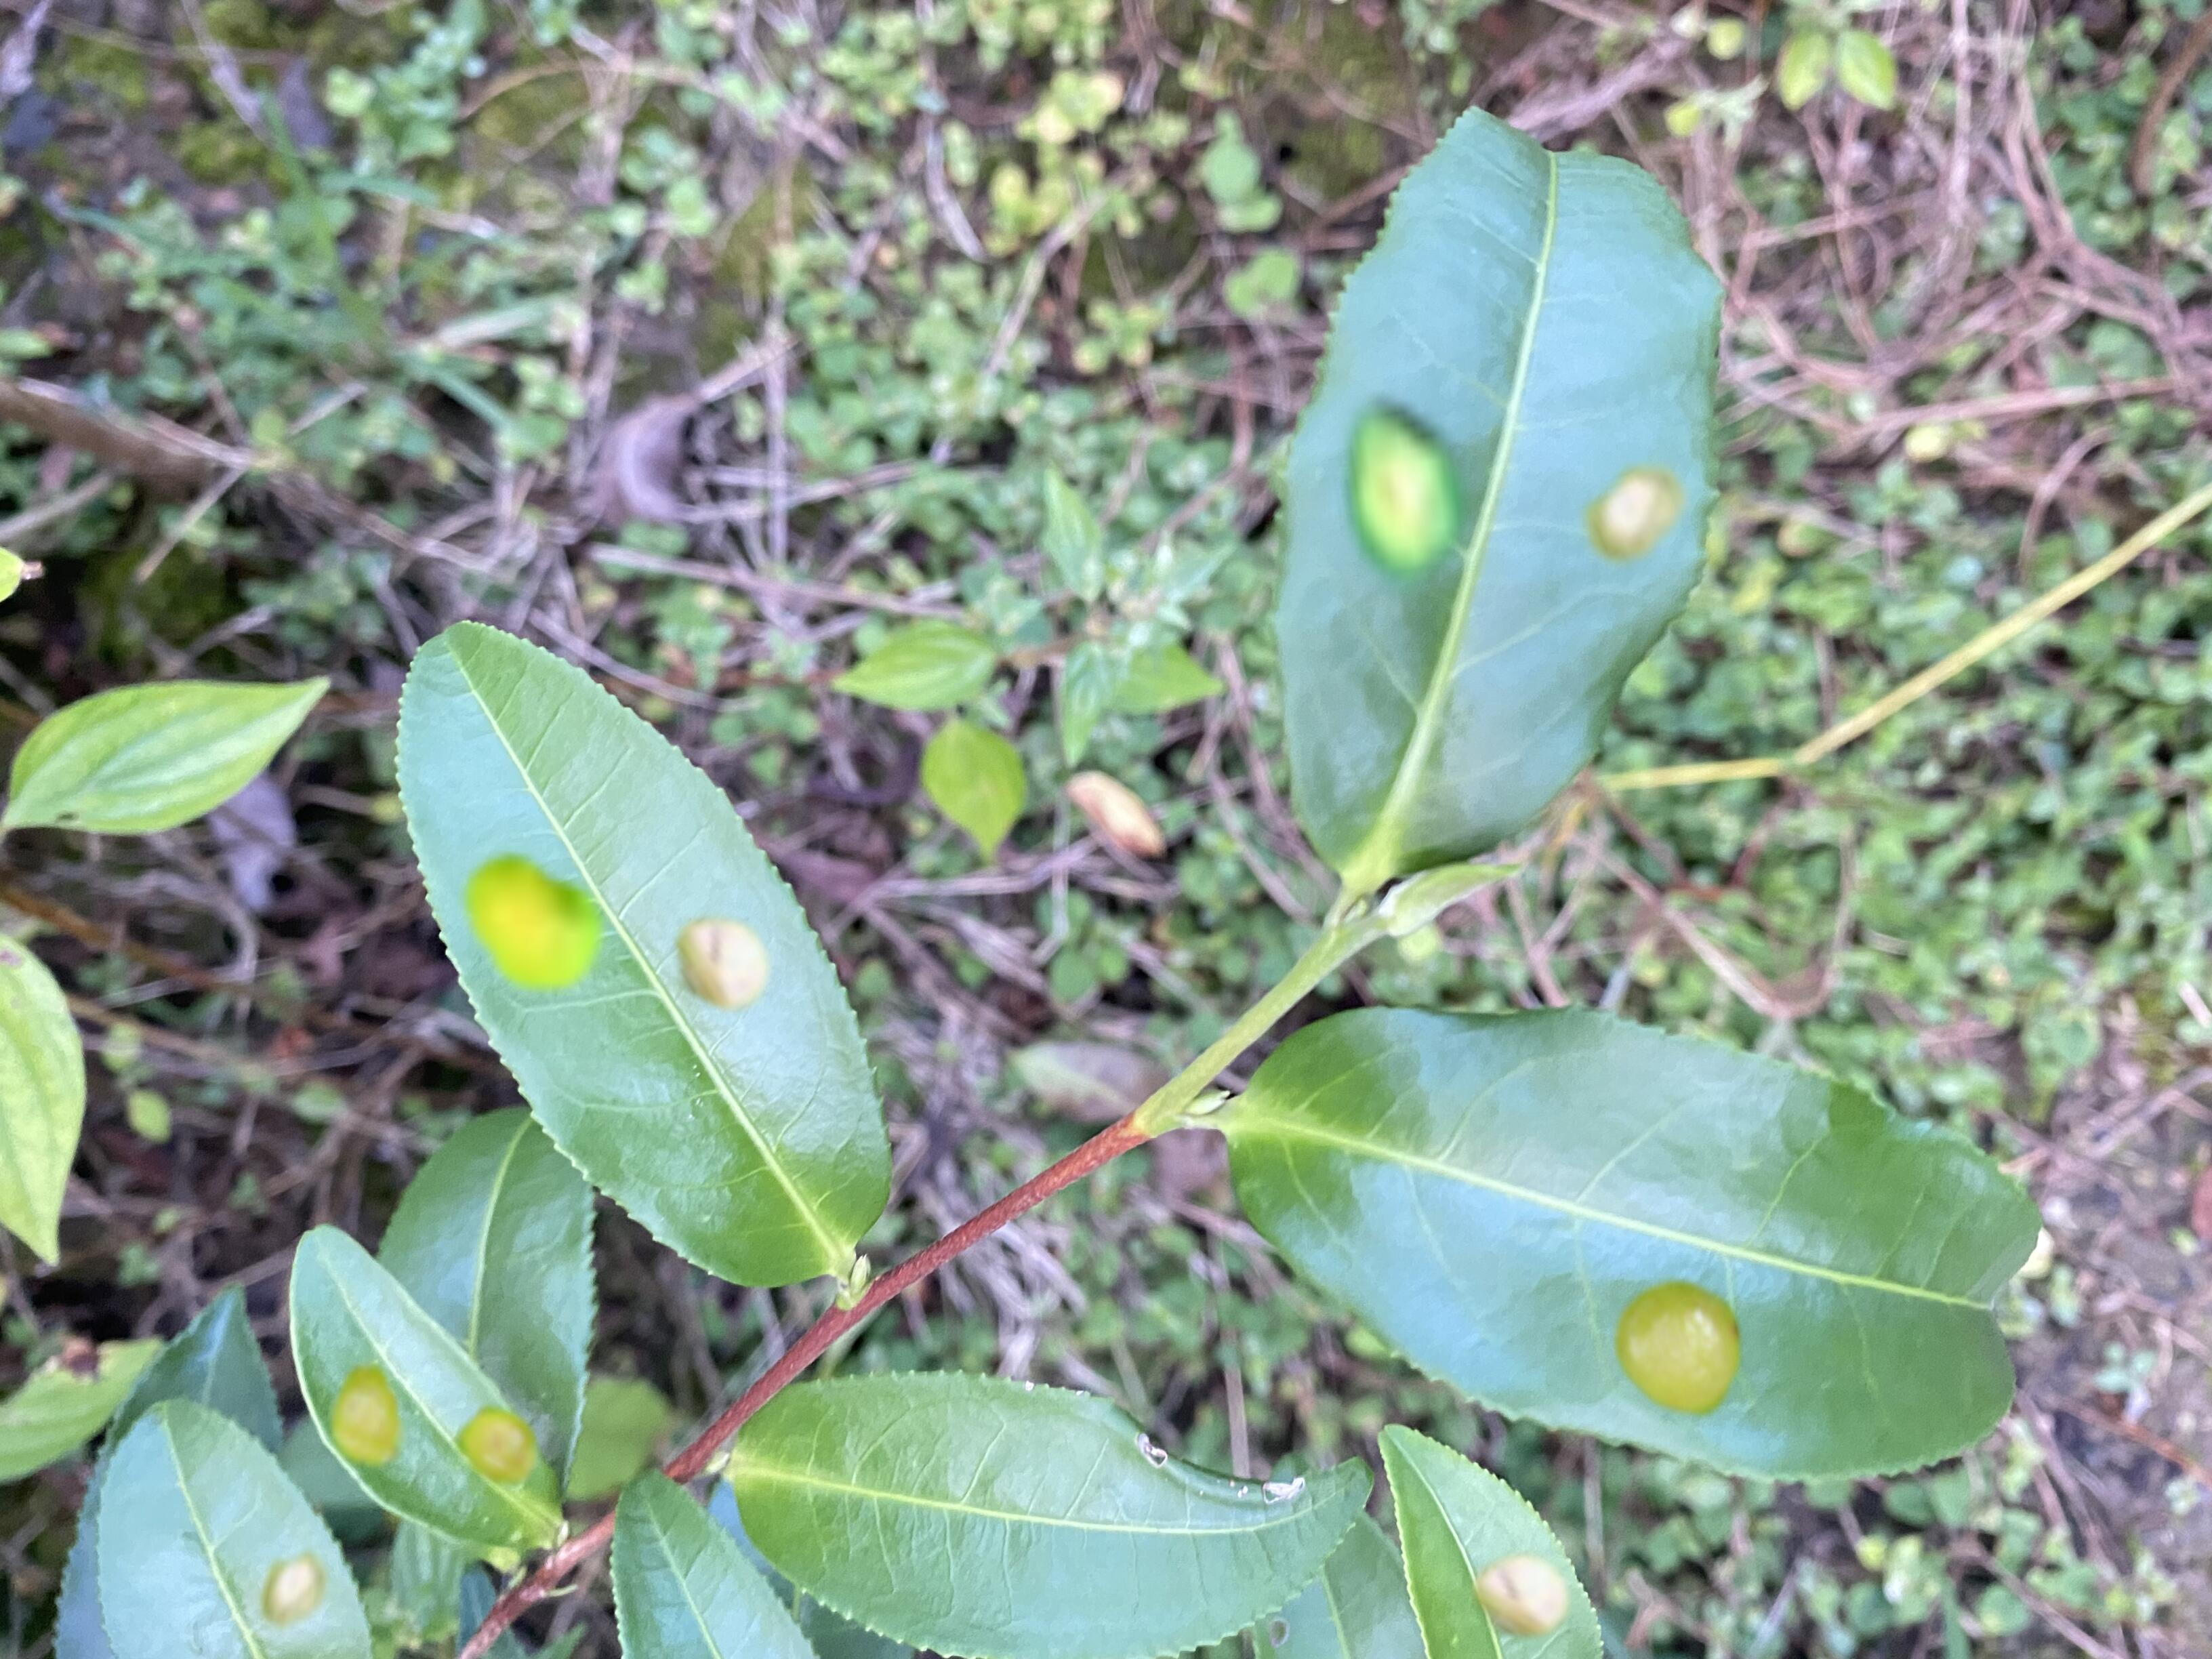chabing_high: (1277, 106, 1726, 892), (394, 617, 895, 1291), (287, 1223, 566, 1549)
chabing_low: (1231, 997, 2045, 1488), (94, 1399, 374, 1656), (1378, 1425, 1606, 1656)
